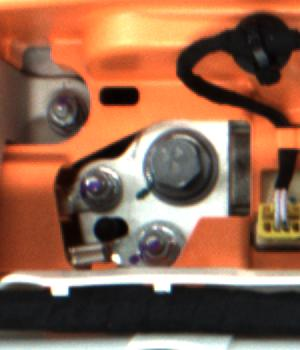nut_b: (144, 128, 216, 200)
screw_s: (132, 224, 184, 271), (75, 172, 123, 215), (46, 93, 82, 137)
